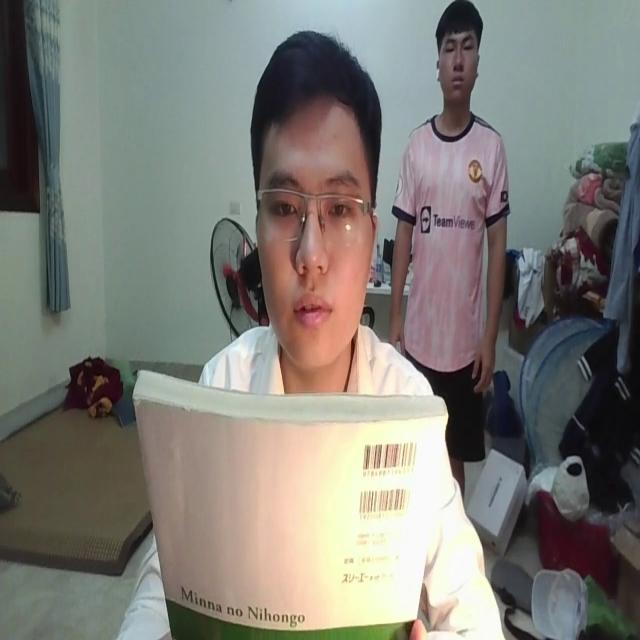book: (125, 357, 442, 640)
extra_person: (393, 0, 510, 475)
student: (195, 37, 432, 402)
